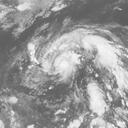cyclone: (35, 28, 84, 84)
